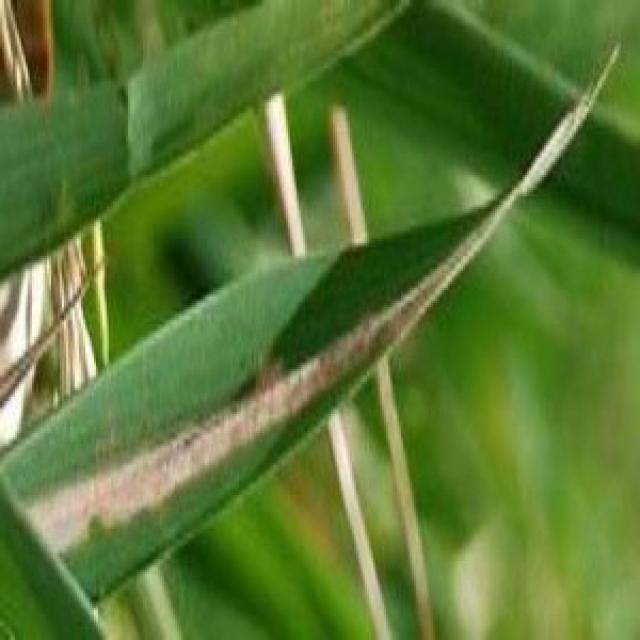leaf blight: (28, 296, 418, 550)
